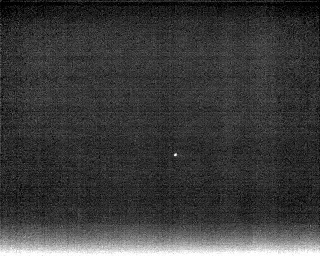BIRD: (171, 150, 180, 161)
